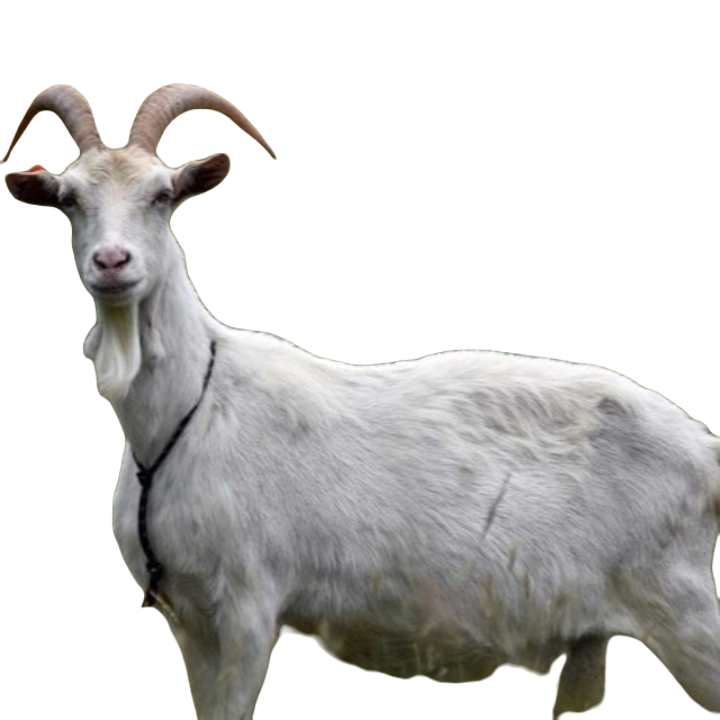Goat: (5, 82, 719, 719)
